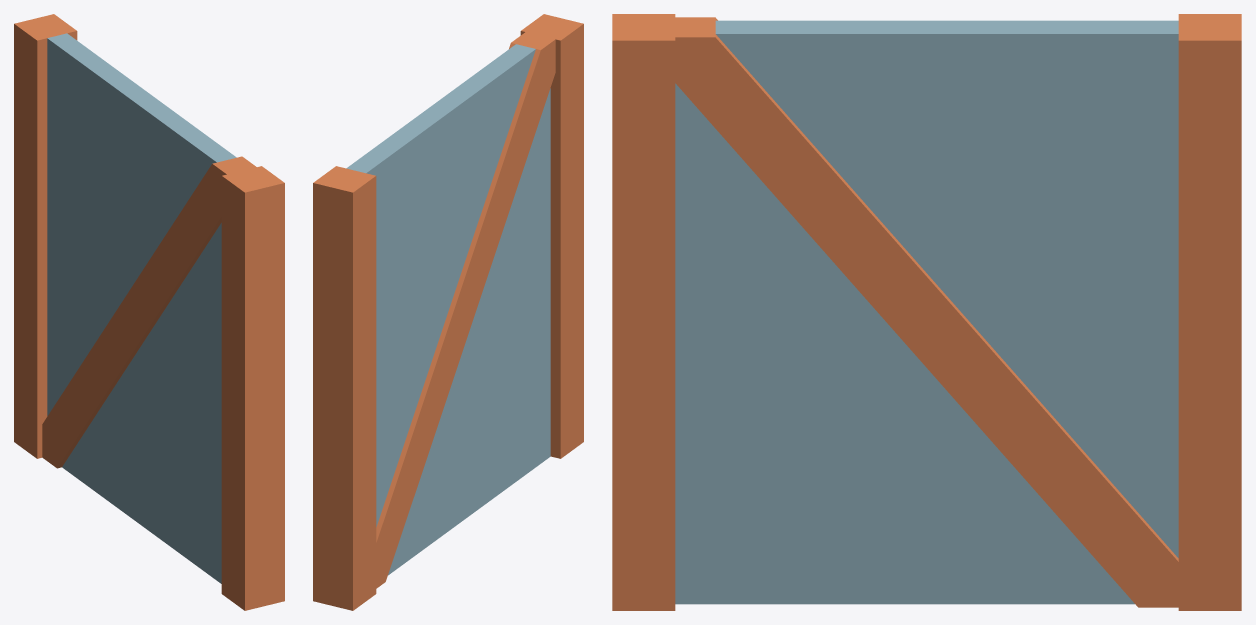
Rendered from wallDetailDiagonal.obj.
The picture shows the model from 3 angles, left to right: view 1: azimuth 30°, elevation 25°; view 2: azimuth 150°, elevation 25°; view 3: azimuth 270°, elevation 25°; orthographic projection. The views are drawn at different scales.
Visible parts, largest first — view 1: wallDetailDiagonal; view 2: wallDetailDiagonal; view 3: wallDetailDiagonal.
Part boxes in pixels (x1,y1,x2,y2): wallDetailDiagonal: (14,14,284,610); wallDetailDiagonal: (313,14,583,610); wallDetailDiagonal: (612,14,1241,610).
Bounding box in the file's own units: 0.1 × 1 × 1.
